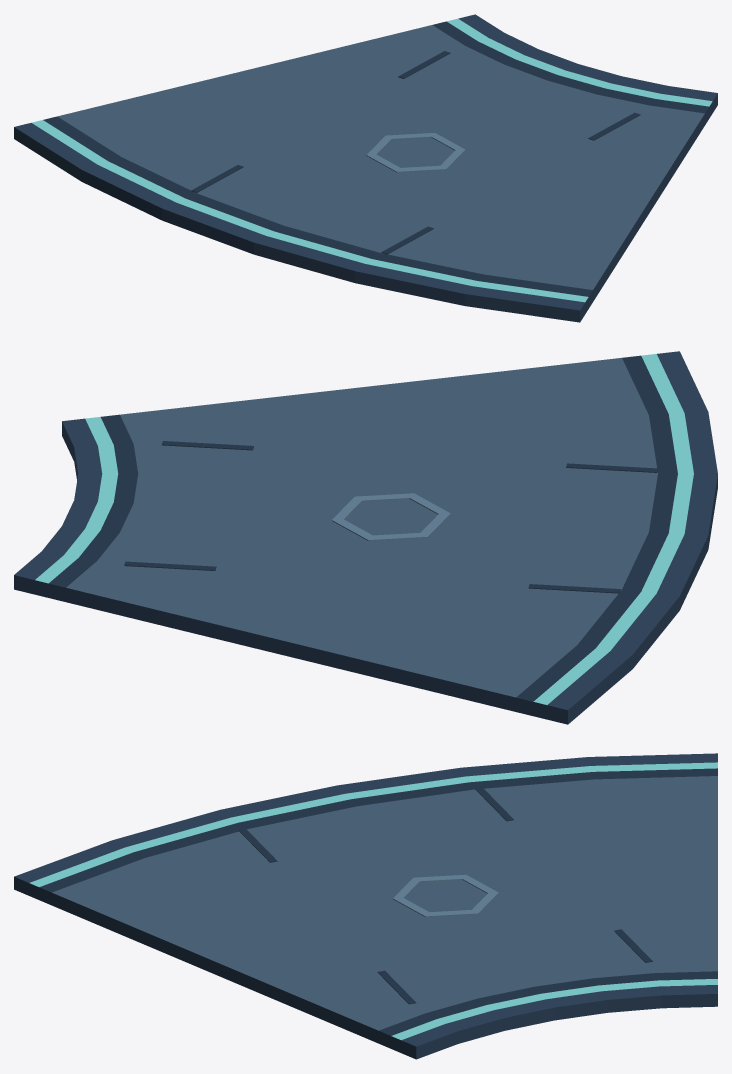
The model's file is campus_walk_bend_45_v01.glb.
3 renders of one model, top to bottom at view 1: azimuth 30°, elevation 25°; view 2: azimuth 150°, elevation 25°; view 3: azimuth 270°, elevation 25°, orthographic. The views are drawn at different scales.
Parts seen in each view (by area): view 1: campus_walk_bend_45; view 2: campus_walk_bend_45; view 3: campus_walk_bend_45.
Part boxes in pixels (x1=…): campus_walk_bend_45: x1=14, y1=14, x2=717, y2=322; campus_walk_bend_45: x1=14, y1=351, x2=717, y2=724; campus_walk_bend_45: x1=14, y1=753, x2=717, y2=1059.
Bounding box in the file's own units: 3.9 × 0.086 × 3.96.
Materials: 1 (1 with a texture image).
